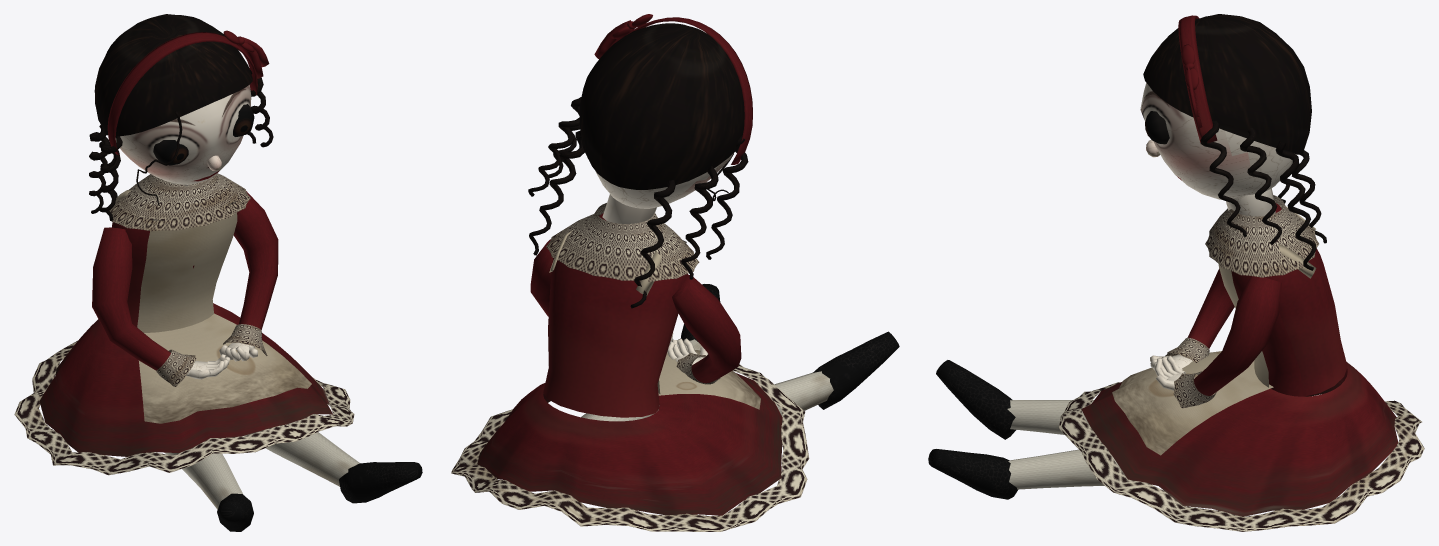
File: LilysDoll.fbx
3 renders of one model, left to right at view 1: azimuth 30°, elevation 25°; view 2: azimuth 150°, elevation 25°; view 3: azimuth 270°, elevation 25°, orthographic. The views are drawn at different scales.
Visible parts, largest first — view 1: Body, HeadMesh; view 2: Body, HeadMesh; view 3: Body, HeadMesh.
Boxes of the visible parts, x1,y1,x2,y2 form: Body: [14, 173, 422, 531]; HeadMesh: [89, 14, 273, 220]; Body: [451, 203, 899, 531]; HeadMesh: [528, 14, 752, 308]; Body: [928, 195, 1424, 531]; HeadMesh: [1140, 14, 1326, 270].
Bounding box in the file's own units: 0.346 × 0.4773 × 0.4913.
